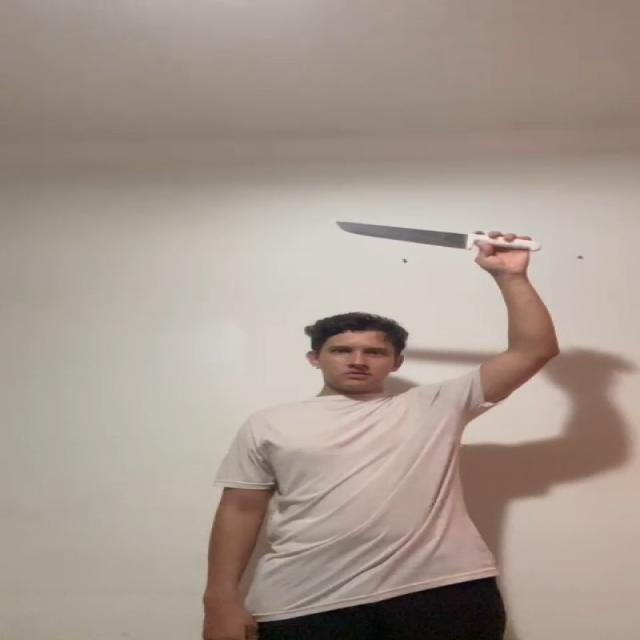knife: (336, 215, 464, 249)
